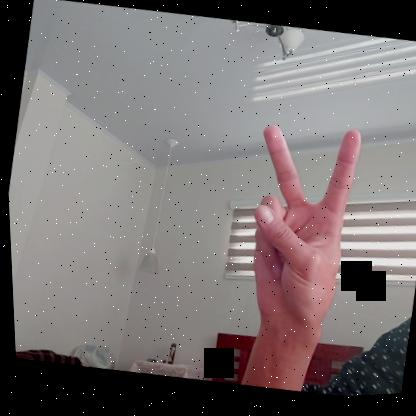V: (222, 113, 367, 360)
